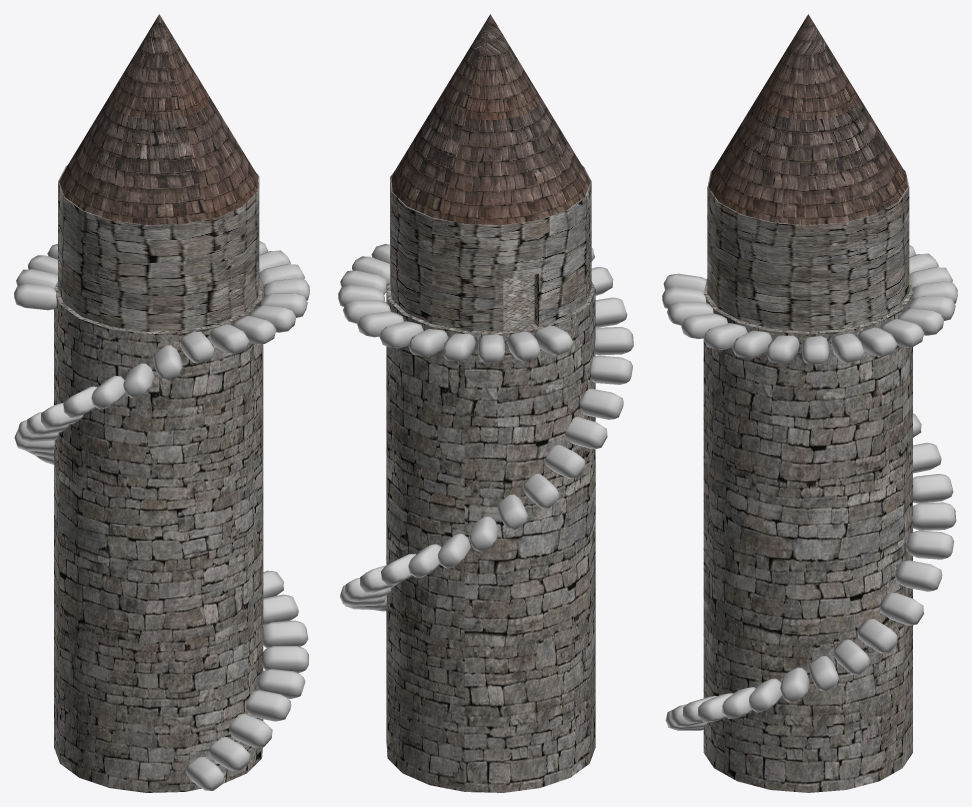
File: Spire.FBX
The picture shows the model from 3 angles, left to right: view 1: azimuth 30°, elevation 25°; view 2: azimuth 150°, elevation 25°; view 3: azimuth 270°, elevation 25°; orthographic projection.
Visible parts, largest first — view 1: Cylinder001, Cone001, Tube001, Box004, Box006, Box005, Box007, Box003, Box002, Box044, Box001, Box028 (+13 smaller); view 2: Cylinder001, Cone001, Tube001, Box023, Box022, Box024, Box021, Box020, Box019, Box044, Box040, Box039 (+16 smaller); view 3: Cylinder001, Cone001, Tube001, Box014, Box013, Box015, Box012, Box016, Box011, Box010, Box036, Box037 (+19 smaller).
Part boxes in pixels (<box>): Cylinder001: <box>54,279,263,792</box>; Cone001: <box>59,14,258,224</box>; Tube001: <box>58,165,259,331</box>; Box004: <box>246,690,291,721</box>; Box006: <box>262,646,308,673</box>; Box005: <box>257,669,305,698</box>; Box007: <box>263,620,308,647</box>; Box003: <box>229,714,272,747</box>; Box002: <box>208,737,250,770</box>; Box044: <box>14,284,56,310</box>; Box001: <box>186,757,224,790</box>; Box028: <box>209,324,249,353</box>; Cylinder001: <box>386,274,595,792</box>; Cone001: <box>391,14,590,224</box>; Tube001: <box>390,165,591,331</box>; Box023: <box>591,355,632,384</box>; Box022: <box>580,388,623,419</box>; Box024: <box>595,327,633,355</box>; Box021: <box>565,416,607,449</box>; Box020: <box>544,445,585,478</box>; Box019: <box>522,473,559,508</box>; Box044: <box>534,325,573,354</box>; Box040: <box>408,329,448,356</box>; Box039: <box>379,321,423,348</box>; Cylinder001: <box>703,278,912,792</box>; Cone001: <box>708,14,907,225</box>; Tube001: <box>707,169,909,331</box>; Box014: <box>906,530,954,559</box>; Box013: <box>895,560,942,591</box>; Box015: <box>912,502,956,530</box>; Box012: <box>879,592,924,625</box>; Box016: <box>913,474,953,503</box>; Box011: <box>857,619,897,653</box>; Box010: <box>833,639,869,674</box>; Box036: <box>857,327,897,356</box>; Box037: <box>881,319,924,347</box>.
Size of the model in its own units: 215 by 591 by 216.
